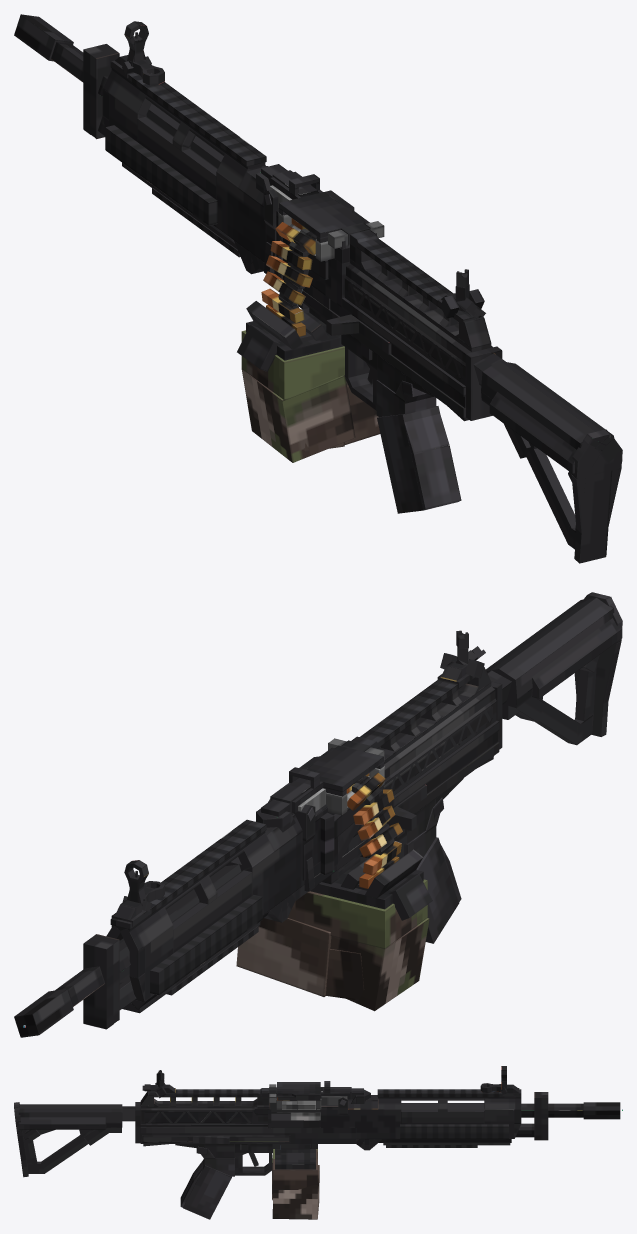
The model's file is lamg.fbx.
The picture shows the model from 3 angles, top to bottom: view 1: azimuth 30°, elevation 25°; view 2: azimuth 150°, elevation 25°; view 3: azimuth 270°, elevation 25°; orthographic projection. The views are drawn at different scales.
Parts seen in each view (by area): view 1: gun, magazine, cover, bolt, frontironsight, bullet4; view 2: gun, magazine, cover, bolt, frontironsight, bullet3, bullet6, bullet5, bullet2, bullet4; view 3: gun, magazine, cover, action.
Boxes of the visible parts, box(x1,y1,x2,y2) form: gun: box(14, 14, 622, 563); magazine: box(237, 301, 380, 462); cover: box(270, 171, 384, 248); bolt: box(326, 314, 391, 354); frontironsight: box(124, 21, 148, 66); bullet4: box(266, 255, 312, 288); gun: box(14, 592, 622, 1037); magazine: box(236, 849, 432, 1011); cover: box(270, 738, 384, 813); bolt: box(387, 784, 426, 830); frontironsight: box(124, 860, 148, 905); bullet3: box(359, 822, 402, 857); bullet6: box(347, 773, 385, 810); bullet5: box(353, 789, 394, 825); bullet2: box(363, 841, 401, 875); bullet4: box(357, 805, 395, 840); gun: box(14, 1082, 620, 1219); magazine: box(272, 1145, 319, 1219); cover: box(269, 1081, 349, 1102); action: box(290, 1112, 320, 1120).
Bounding box in the file's own units: 114 × 188 × 698.
